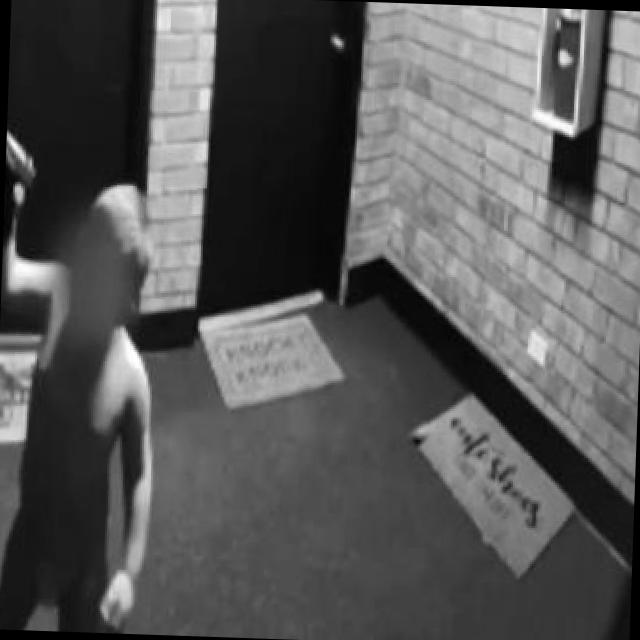Guns: (2, 75, 52, 262)
